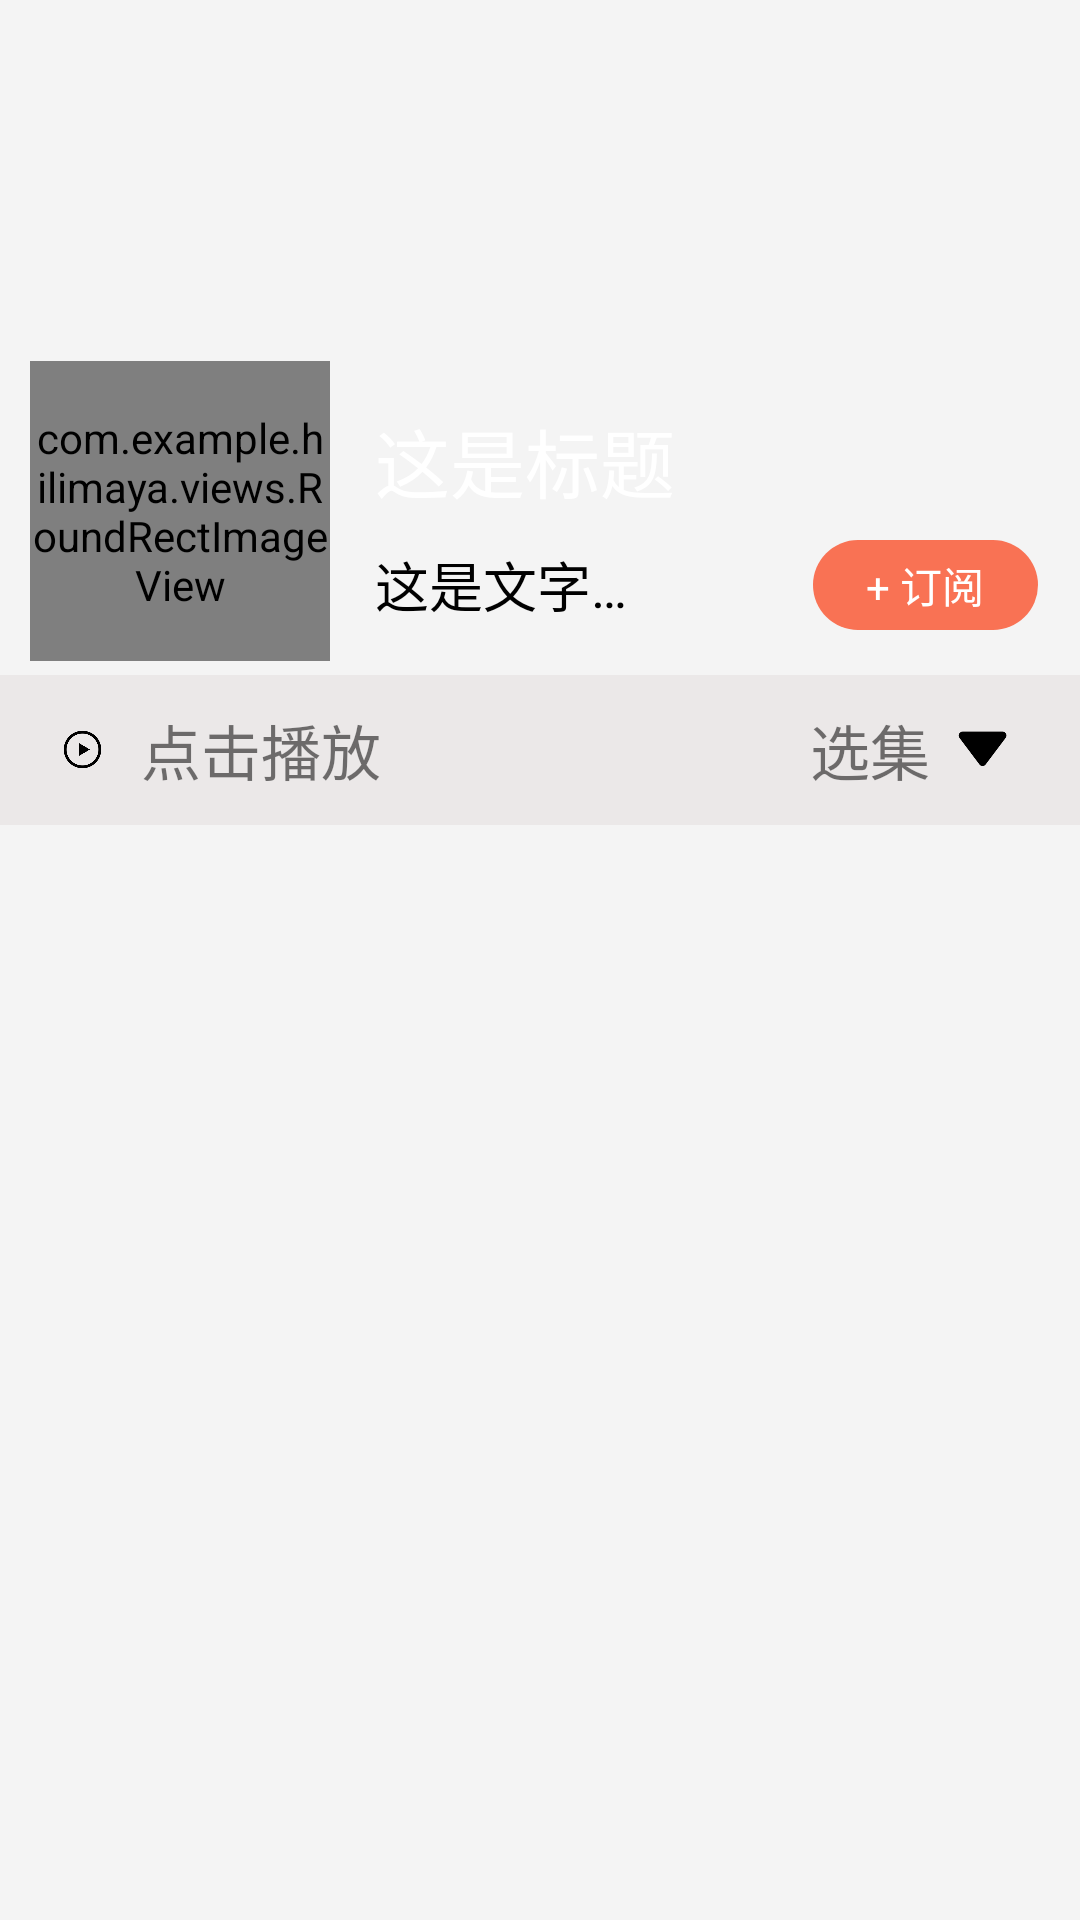

Icons on this 1080px x 1920px Android screen, each with the point to tap as (x,y):
arrow down: (982,748)
play info: (82,749)
